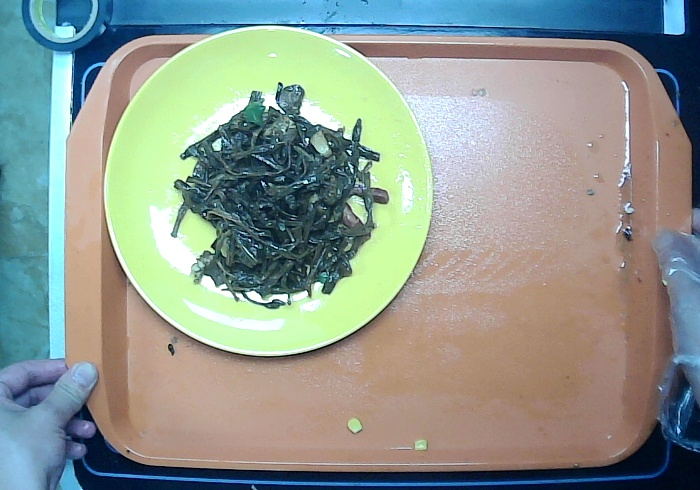HZYJPL-Huang_Se_Yuan_Pan: (101, 23, 434, 358)
